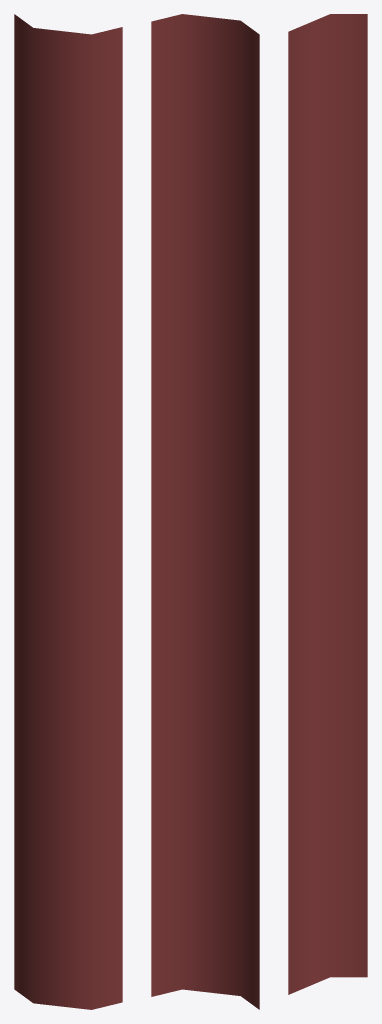
The model's file is Decal_wallIn_B_corner_outPatch.FBX.
3 renders of one model, left to right at view 1: azimuth 30°, elevation 25°; view 2: azimuth 210°, elevation 25°; view 3: azimuth 270°, elevation 25°, orthographic.
Visible parts, largest first — view 1: Decal_wallIn_B_corner_outPatch; view 2: Decal_wallIn_B_corner_outPatch; view 3: Decal_wallIn_B_corner_outPatch.
Part boxes in pixels (left/top/right/bottom): Decal_wallIn_B_corner_outPatch: left=14, top=14, right=122, bottom=1009; Decal_wallIn_B_corner_outPatch: left=151, top=14, right=259, bottom=1009; Decal_wallIn_B_corner_outPatch: left=288, top=14, right=367, bottom=994.
Bounding box in the file's own units: 18.36 × 252 × 18.88.
